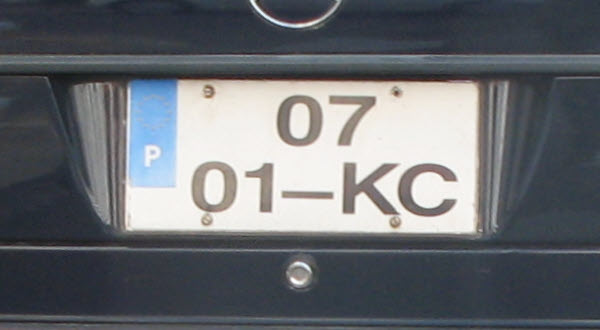license_plate: (125, 79, 489, 234)
